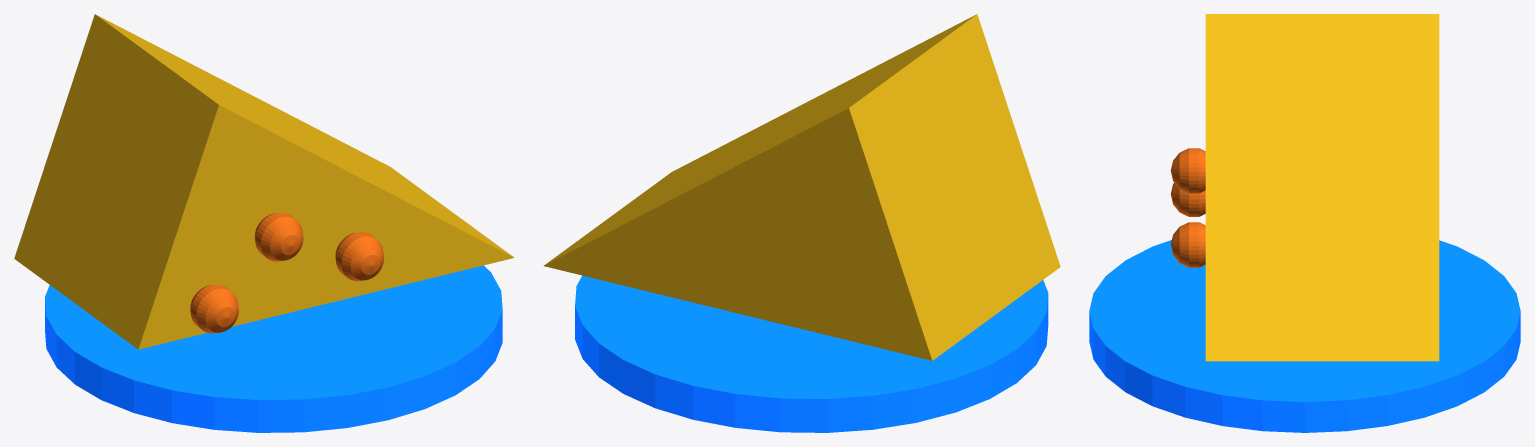
Rendered from french_cheese.dae.
3 views of the same model, side by side, from view 1: azimuth 30°, elevation 25°; view 2: azimuth 150°, elevation 25°; view 3: azimuth 270°, elevation 25° (orthographic). The views are drawn at different scales.
Visible parts, largest first — view 1: 10_06_Popular_French_Cheese_part_01, 10_06_Popular_French_Cheese_ROOT_base, 10_06_Popular_French_Cheese_part_02, 10_06_Popular_French_Cheese_part_03, 10_06_Popular_French_Cheese_part_04; view 2: 10_06_Popular_French_Cheese_part_01, 10_06_Popular_French_Cheese_ROOT_base; view 3: 10_06_Popular_French_Cheese_part_01, 10_06_Popular_French_Cheese_ROOT_base, 10_06_Popular_French_Cheese_part_02, 10_06_Popular_French_Cheese_part_04, 10_06_Popular_French_Cheese_part_03.
Boxes of the visible parts, x1=… form: 10_06_Popular_French_Cheese_part_01: x1=14, y1=14, x2=514, y2=349; 10_06_Popular_French_Cheese_ROOT_base: x1=45, y1=265, x2=502, y2=432; 10_06_Popular_French_Cheese_part_02: x1=254, y1=212, x2=303, y2=261; 10_06_Popular_French_Cheese_part_03: x1=190, y1=284, x2=238, y2=333; 10_06_Popular_French_Cheese_part_04: x1=335, y1=232, x2=384, y2=281; 10_06_Popular_French_Cheese_part_01: x1=544, y1=14, x2=1060, y2=360; 10_06_Popular_French_Cheese_ROOT_base: x1=575, y1=275, x2=1048, y2=432; 10_06_Popular_French_Cheese_part_01: x1=1205, y1=14, x2=1439, y2=361; 10_06_Popular_French_Cheese_ROOT_base: x1=1089, y1=240, x2=1520, y2=432; 10_06_Popular_French_Cheese_part_02: x1=1170, y1=148, x2=1205, y2=193; 10_06_Popular_French_Cheese_part_04: x1=1171, y1=222, x2=1205, y2=267; 10_06_Popular_French_Cheese_part_03: x1=1170, y1=183, x2=1205, y2=216.
Size of the model in its own units: 0.76 by 0.5414 by 0.76.
